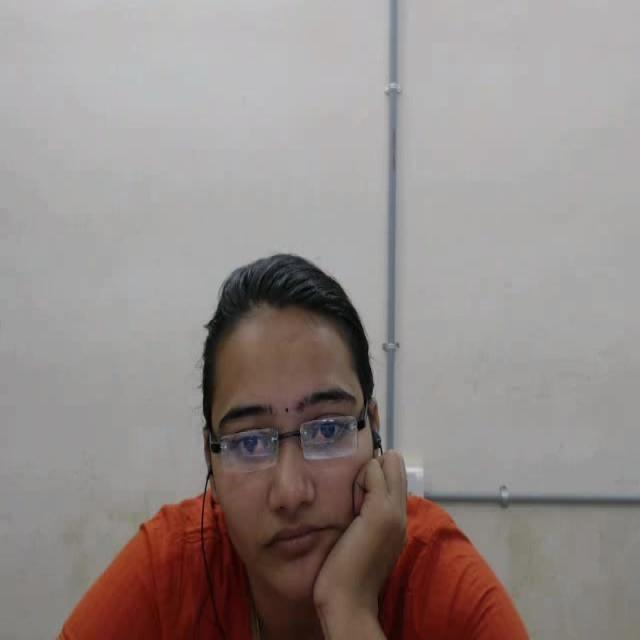Bored: (157, 224, 416, 635)
